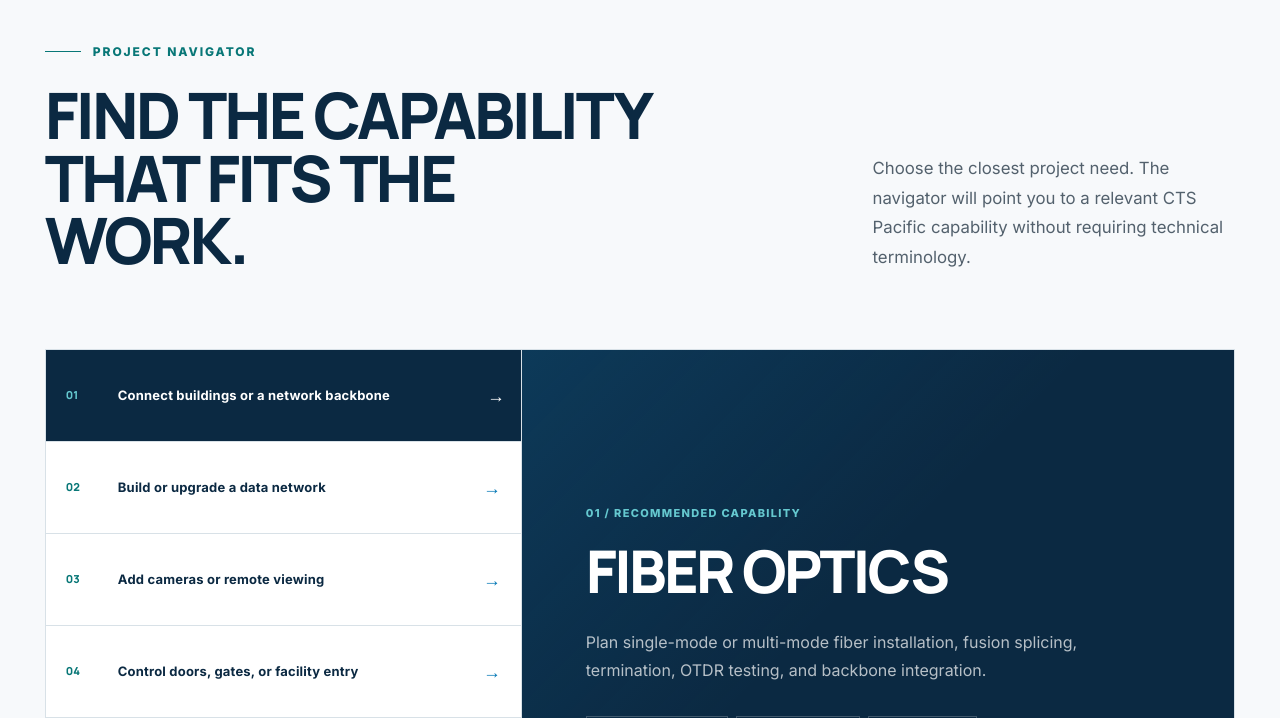
Test case: ProjectNavigator › updates the recommended capability when a project need is selected
The image size is (1280, 718).
Expected: the heading "Fiber Optics" is shown, [586,542,948,600]
What coordinates should you click on to do the following:
click the button "03 Add cameras or remote viewing →"
I would click on:
 (283, 580)
Its box is [46,534,521,626].
(page scrolled)
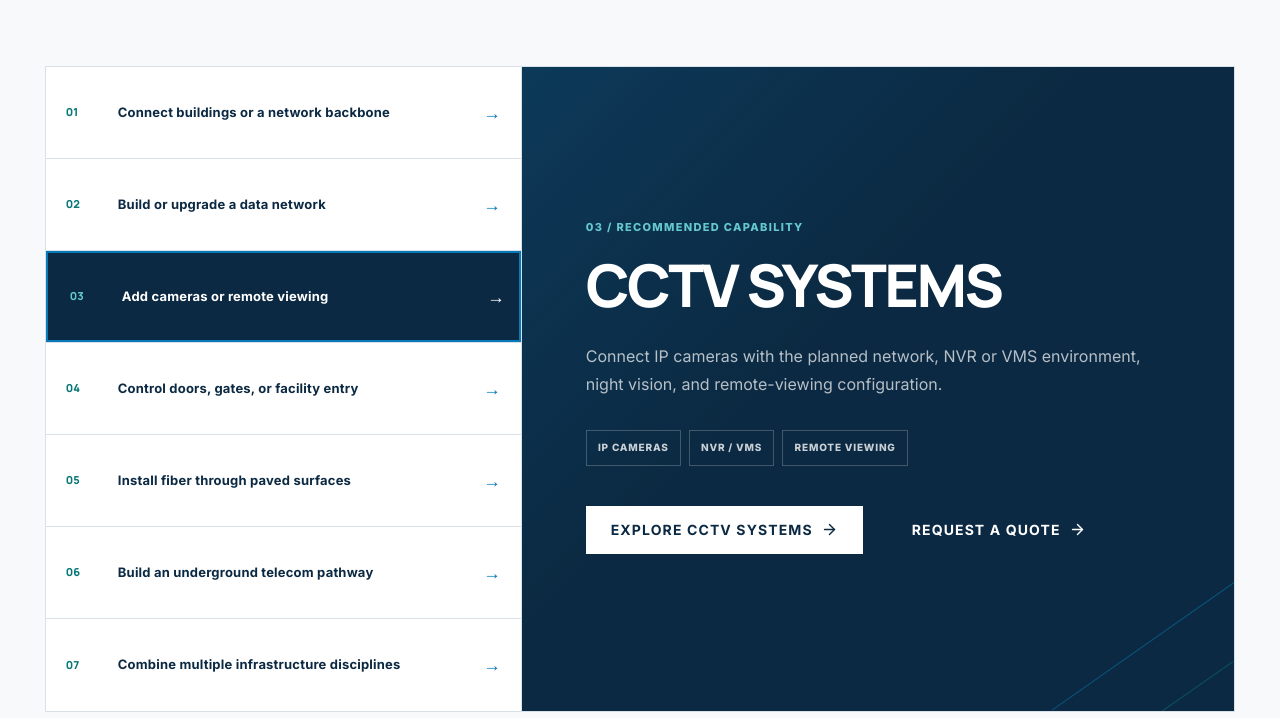
Expected: the heading "CCTV Systems" is shown, [586,256,1001,314]
